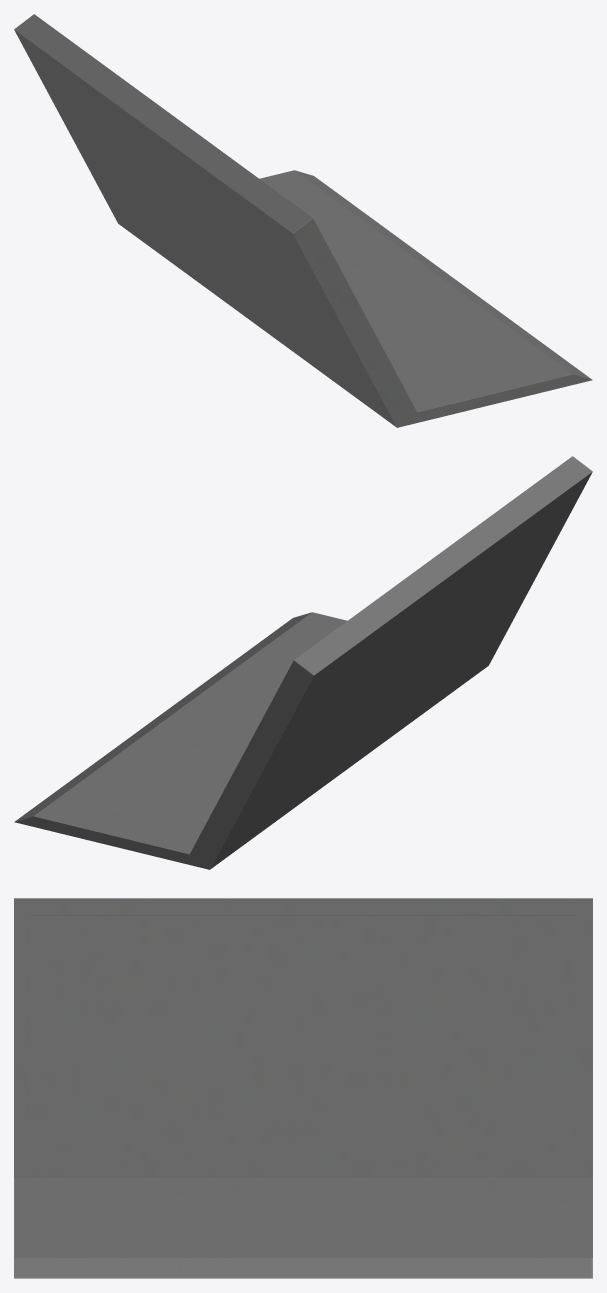
Rendered from Medical_Computer.fbx.
3 renders of one model, top to bottom at view 1: azimuth 30°, elevation 25°; view 2: azimuth 150°, elevation 25°; view 3: azimuth 270°, elevation 25°, orthographic. The views are drawn at different scales.
Visible parts, largest first — view 1: Medical_Computer; view 2: Medical_Computer; view 3: Medical_Computer.
Boxes of the visible parts, left/top/right/bottom form: Medical_Computer: left=14, top=14, right=592, bottom=427; Medical_Computer: left=14, top=456, right=592, bottom=869; Medical_Computer: left=14, top=898, right=592, bottom=1278.
Size of the model in its own units: 245 by 180 by 395.
